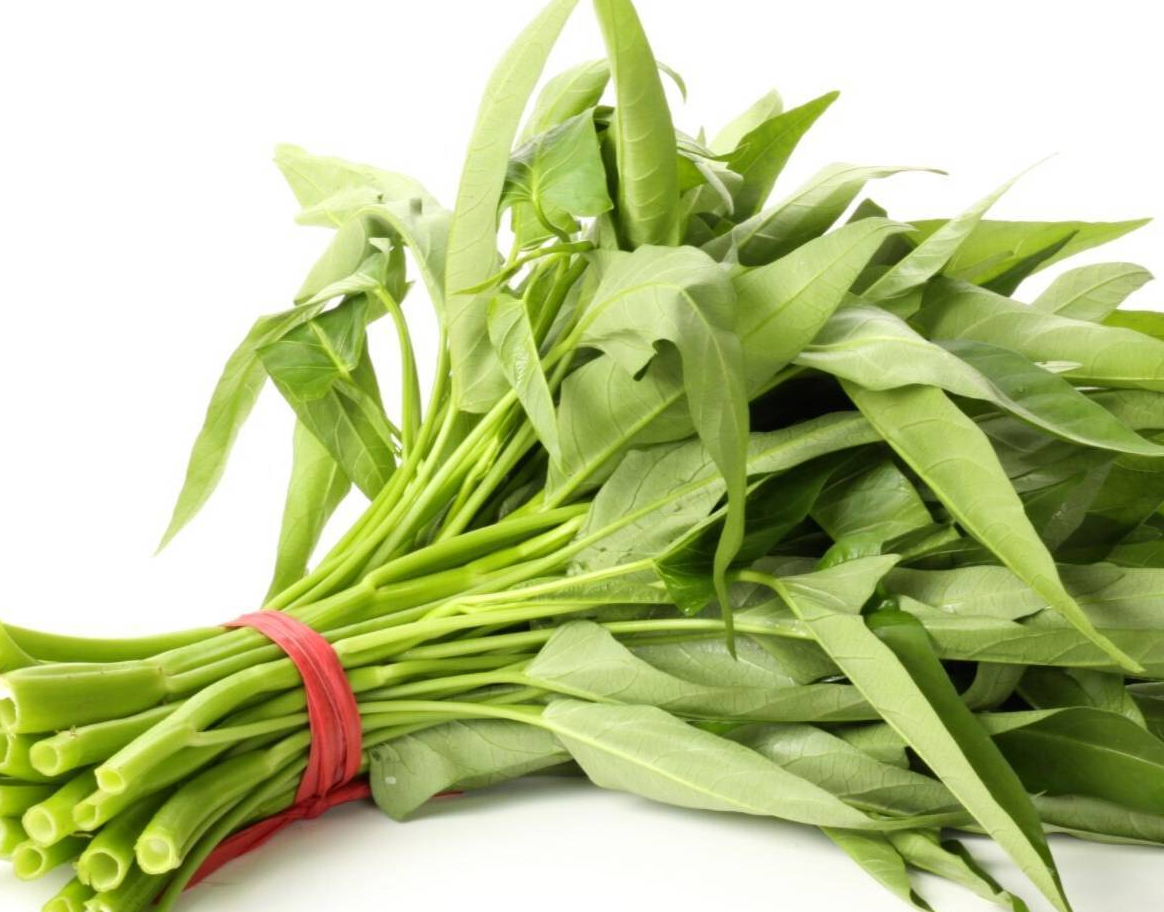Kangkung: (144, 135, 1089, 858)
